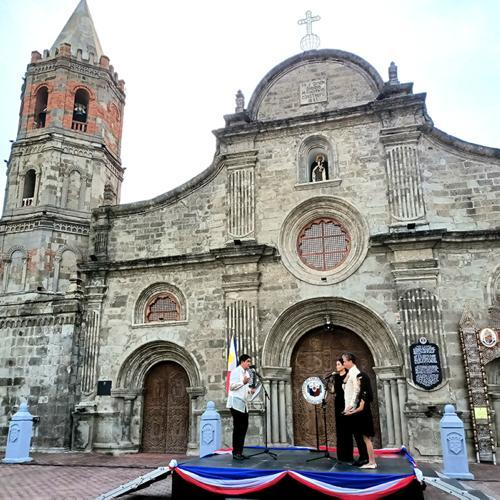Barasoain Church: (5, 1, 500, 497)
